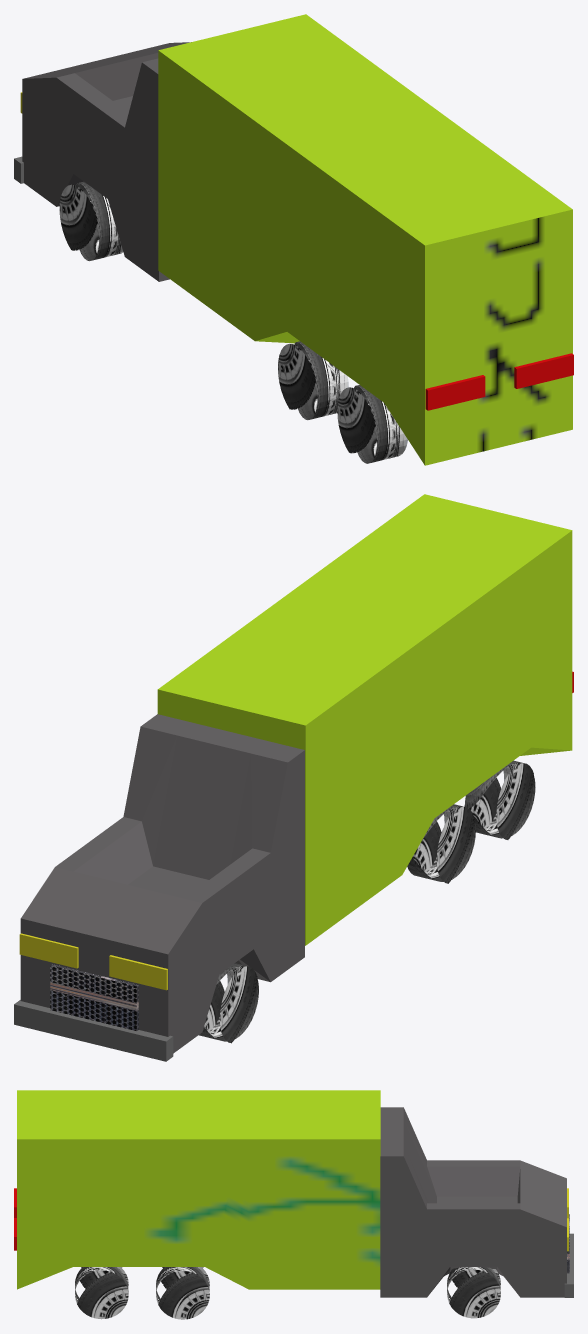
The model's file is truck.dae.
The picture shows the model from 3 angles, top to bottom: view 1: azimuth 30°, elevation 25°; view 2: azimuth 150°, elevation 25°; view 3: azimuth 270°, elevation 25°; orthographic projection. The views are drawn at different scales.
Visible parts, largest first — view 1: Cube.004; view 2: Cube.004; view 3: Cube.004.
Part boxes in pixels (bbox=[...]): Cube.004: bbox=[14, 14, 573, 465]; Cube.004: bbox=[14, 494, 573, 1061]; Cube.004: bbox=[14, 1090, 573, 1319].
Size of the model in its own units: 4.75 by 20.79 by 7.27.
